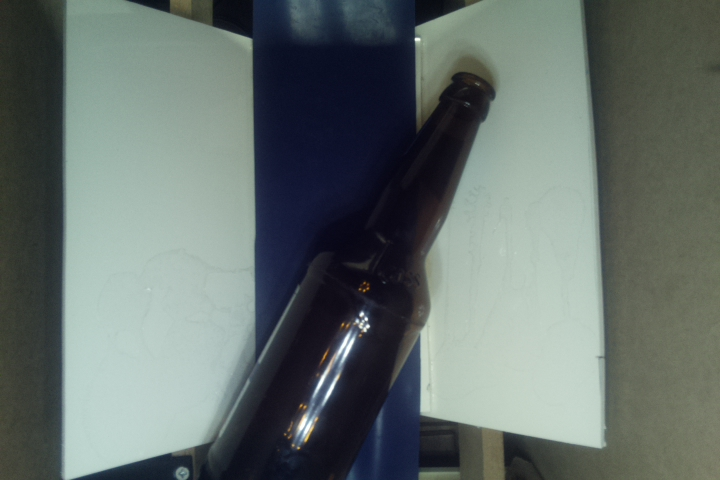makju: (194, 71, 498, 480)
